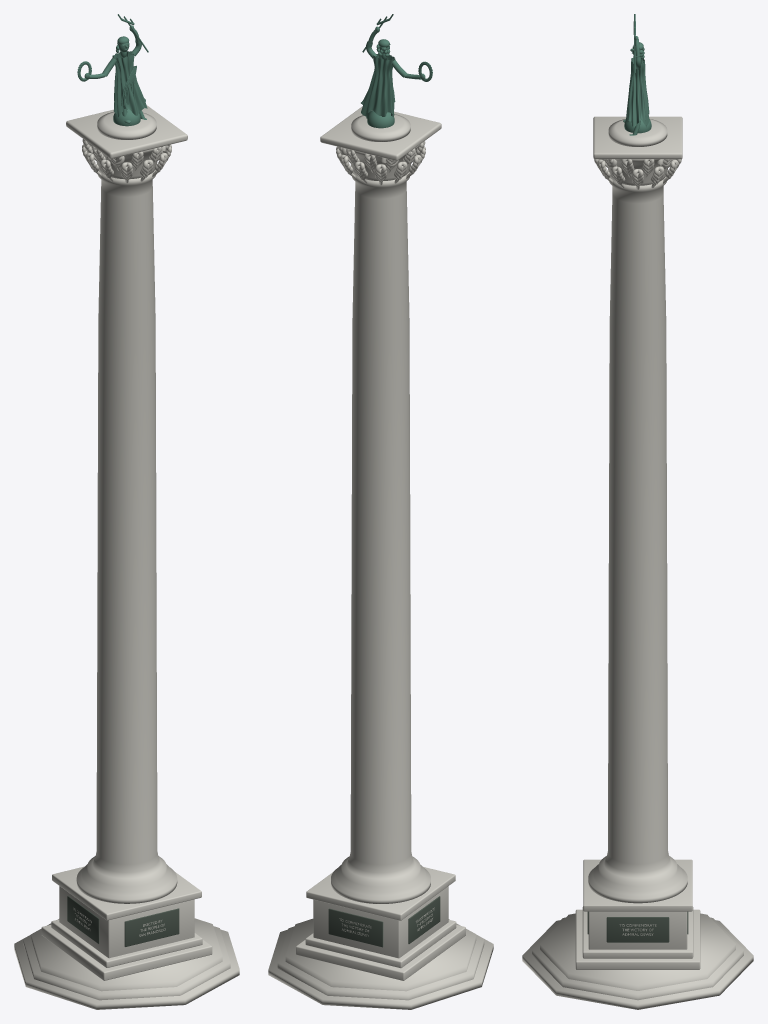
File: dewey-monument.glb
The picture shows the model from 3 angles, left to right: view 1: azimuth 30°, elevation 25°; view 2: azimuth 150°, elevation 25°; view 3: azimuth 270°, elevation 25°; orthographic projection.
Parts seen in each view (by area): view 1: Pale granite • monument, Weathered green bronze, Dark bronze tablets; view 2: Pale granite • monument, Weathered green bronze, Dark bronze tablets; view 3: Pale granite • monument, Weathered green bronze, Dark bronze tablets.
Part boxes in pixels (left/top/right/bottom): Pale granite • monument: left=14, top=105, right=239, bottom=1009; Weathered green bronze: left=77, top=14, right=148, bottom=126; Dark bronze tablets: left=67, top=45, right=179, bottom=946; Pale granite • monument: left=268, top=106, right=493, bottom=1009; Weathered green bronze: left=361, top=14, right=432, bottom=128; Dark bronze tablets: left=328, top=896, right=440, bottom=947; Pale granite • monument: left=522, top=116, right=753, bottom=1009; Weathered green bronze: left=623, top=14, right=651, bottom=135; Dark bronze tablets: left=587, top=911, right=688, bottom=942.
Size of the model in its own units: 6.6 by 29.68 by 6.6.
